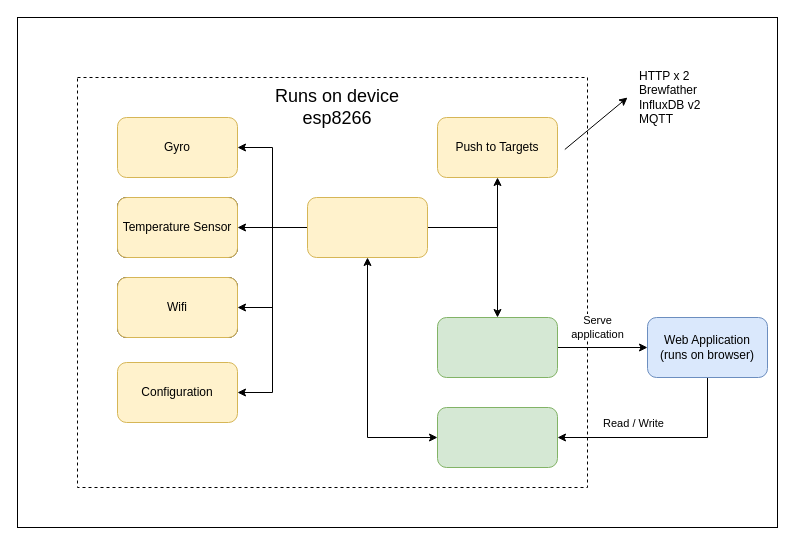
Image size: 795x545. Some labels were removed from this diagram. The shapes that lost their labels are listed below. From the top down, each one's box as (x1, y1, x2, y2) in pixels, then its label:
(306, 196, 428, 258): main()
(436, 316, 558, 378): WebServer (confiig mode)
(436, 406, 558, 468): REST API (config mode)
